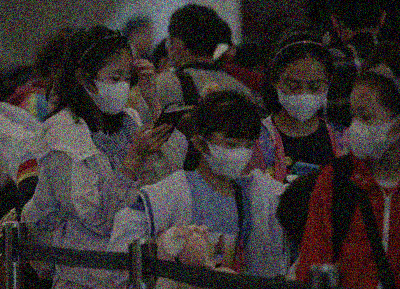with_mask: (201, 129, 257, 183), (275, 73, 330, 126), (349, 102, 395, 163), (82, 66, 133, 117)
